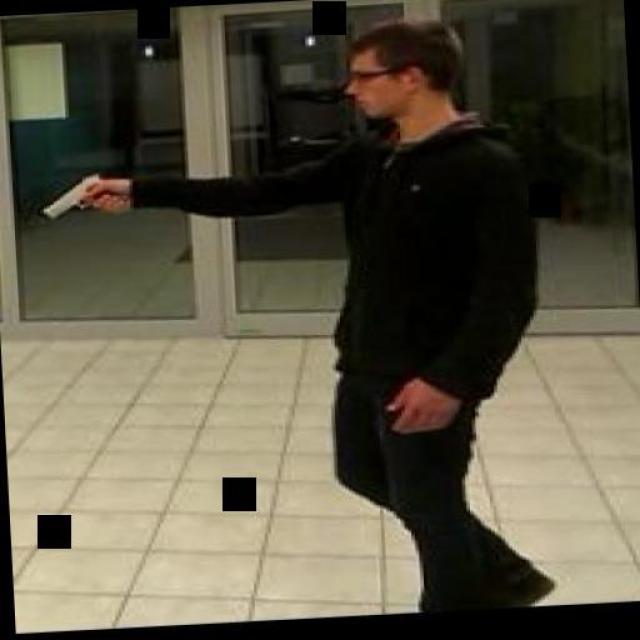gun: (28, 168, 128, 222)
